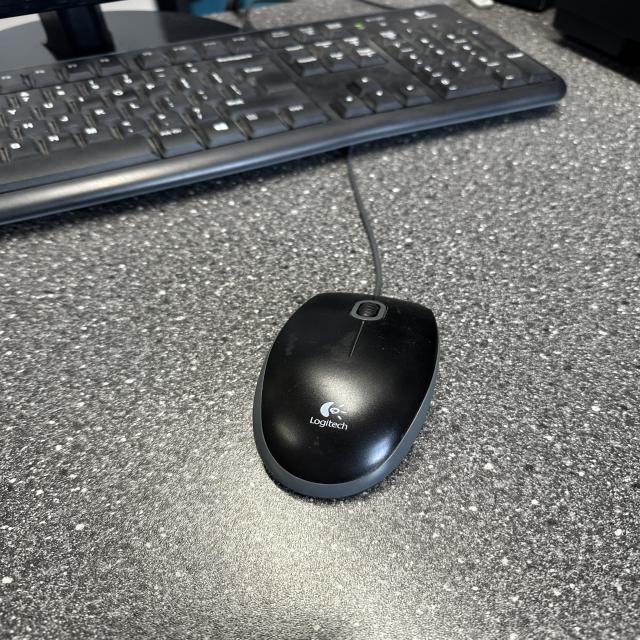mysz: (250, 284, 442, 510)
